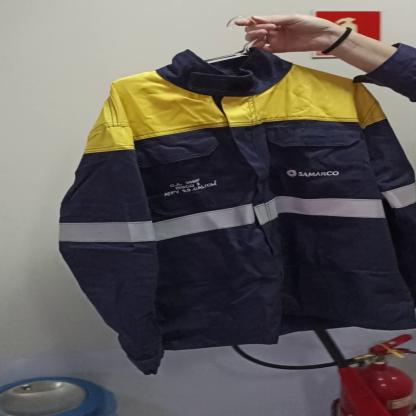C_eletrica: (57, 59, 416, 366)
